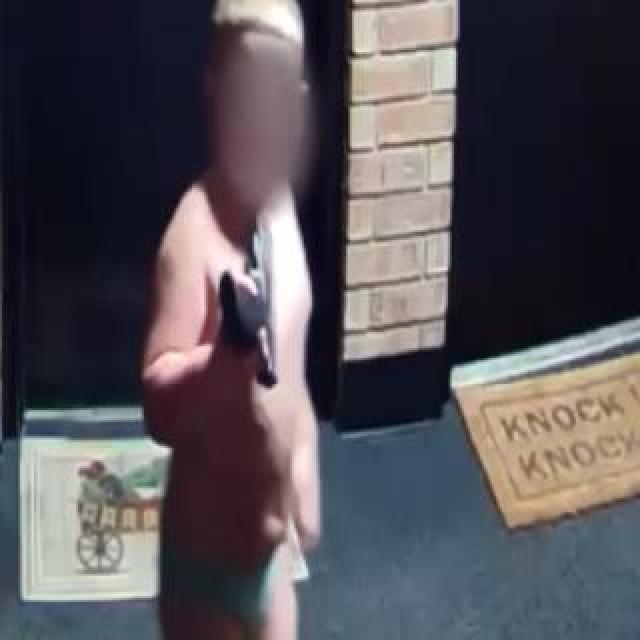Guns: (223, 206, 286, 388)
